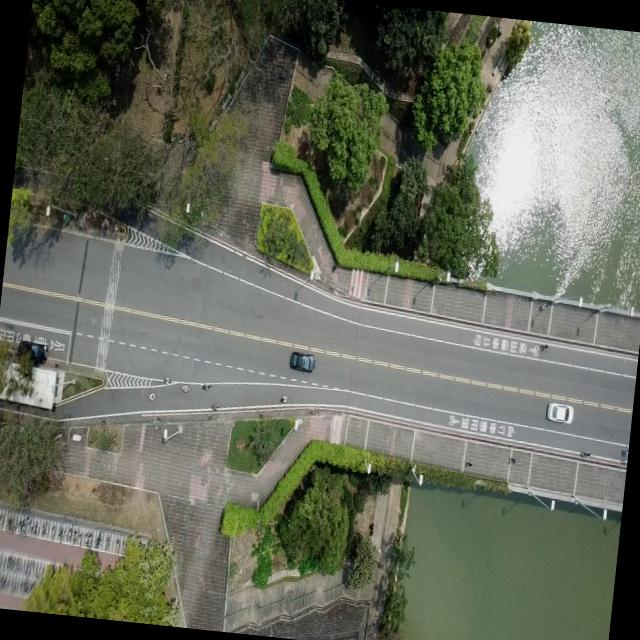bike: (578, 449, 590, 457)
car: (16, 338, 48, 366), (544, 400, 574, 424), (288, 350, 316, 373)
